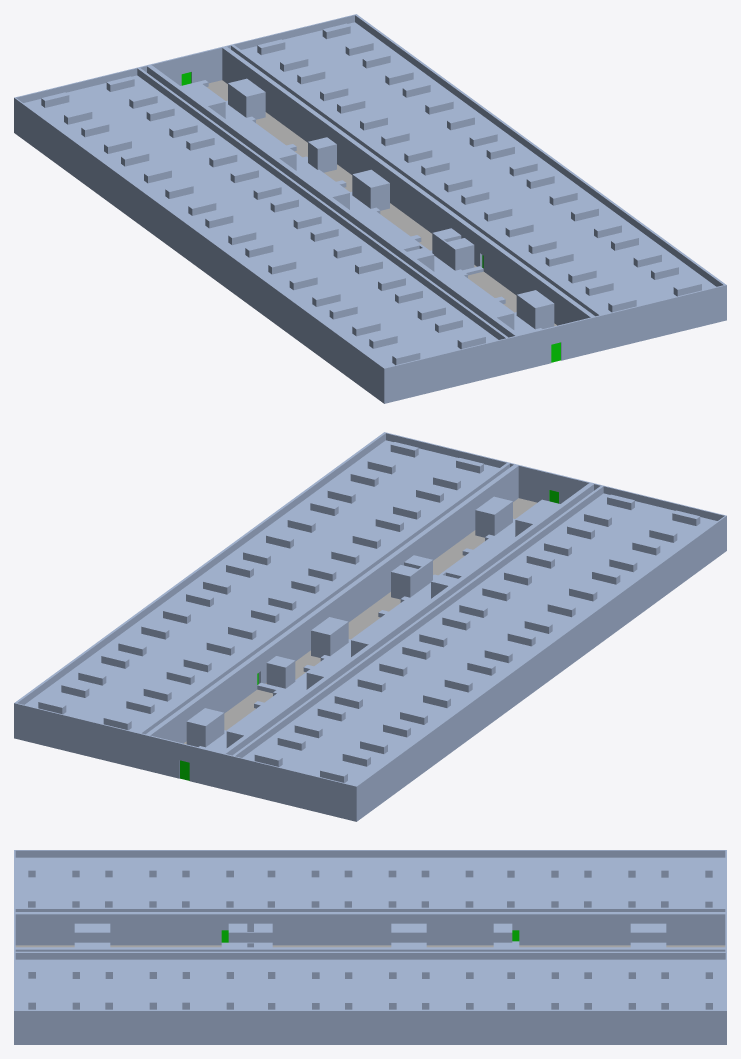
Rendered from Activated_Carbon_Filter_expansion.glb.
3 renders of one model, top to bottom at view 1: azimuth 30°, elevation 25°; view 2: azimuth 150°, elevation 25°; view 3: azimuth 270°, elevation 25°, orthographic. The views are drawn at different scales.
Parts seen in each view (by area): view 1: Floor1; view 2: Floor1; view 3: Floor1.
Boxes of the visible parts, bbox=[...] form: Floor1: bbox=[14, 14, 726, 403]; Floor1: bbox=[14, 432, 726, 821]; Floor1: bbox=[14, 850, 726, 1044].
Bounding box in the file's own units: 50.92 × 5 × 95.36.
